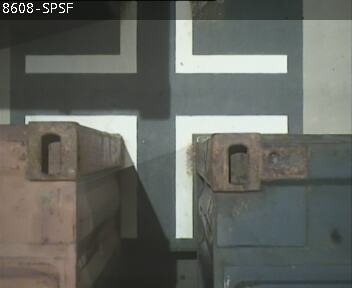groundmarker_1: (25, 114, 286, 236), (26, 1, 287, 73)
